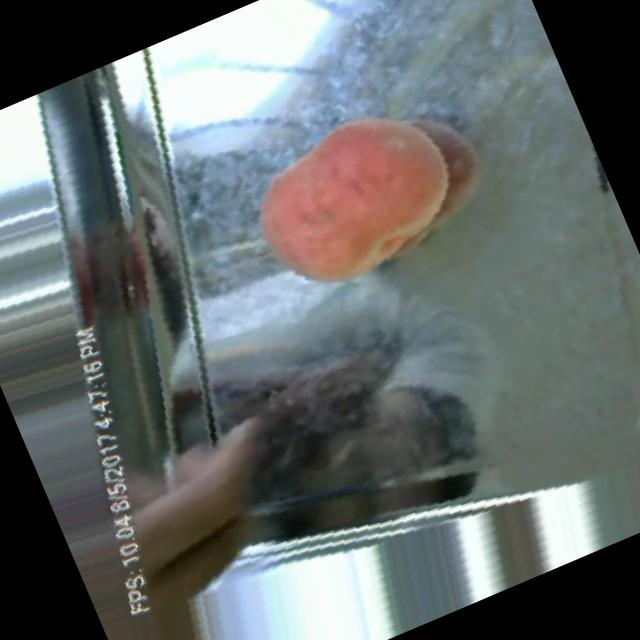Fruit: (206, 65, 504, 338)
